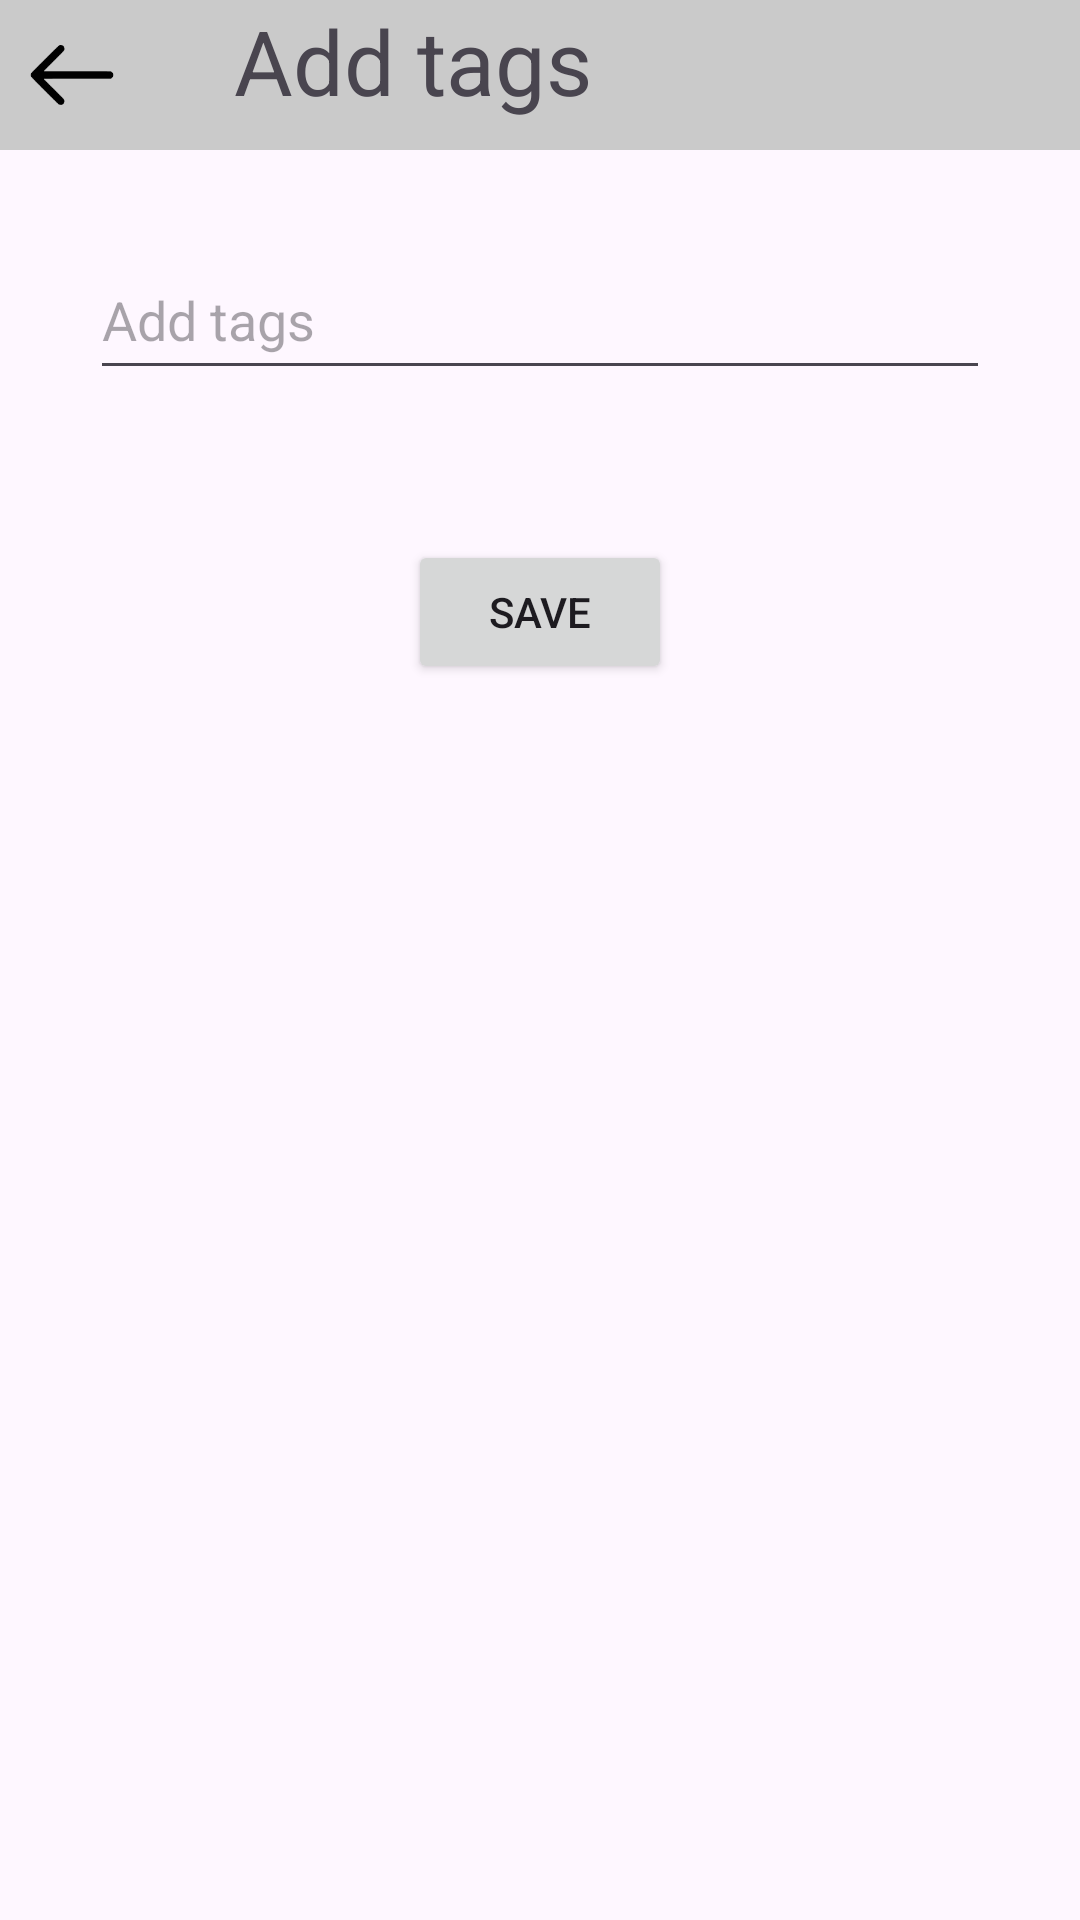

Where to tap for icons on this 1080px×1920px app screen, as [x,y]:
Go back: [72,75]
